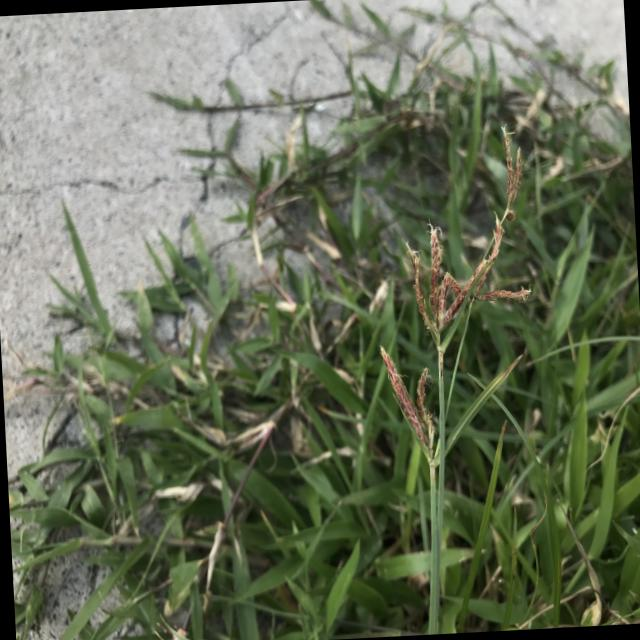cyperus: (356, 124, 556, 502)
